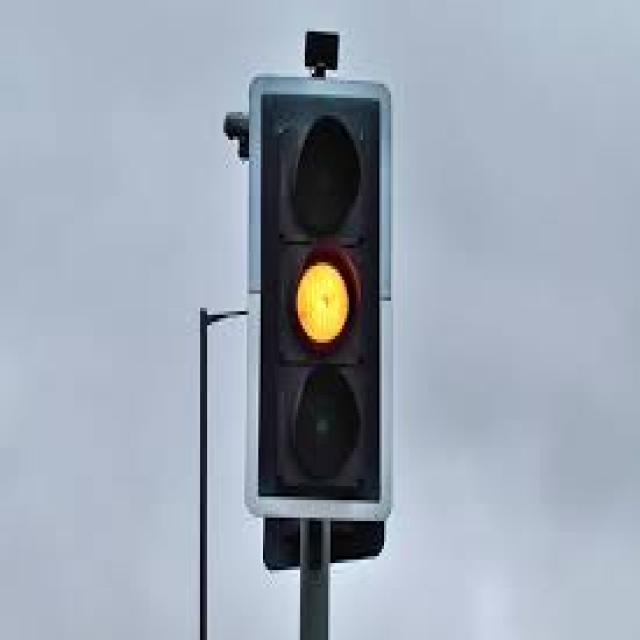yellow light: (255, 80, 383, 506)
